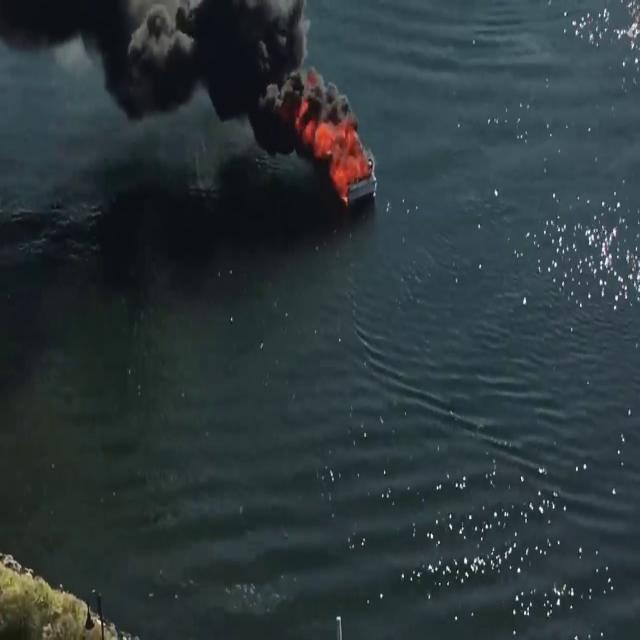Fire: (306, 109, 370, 201)
Smoke: (0, 0, 310, 207)
